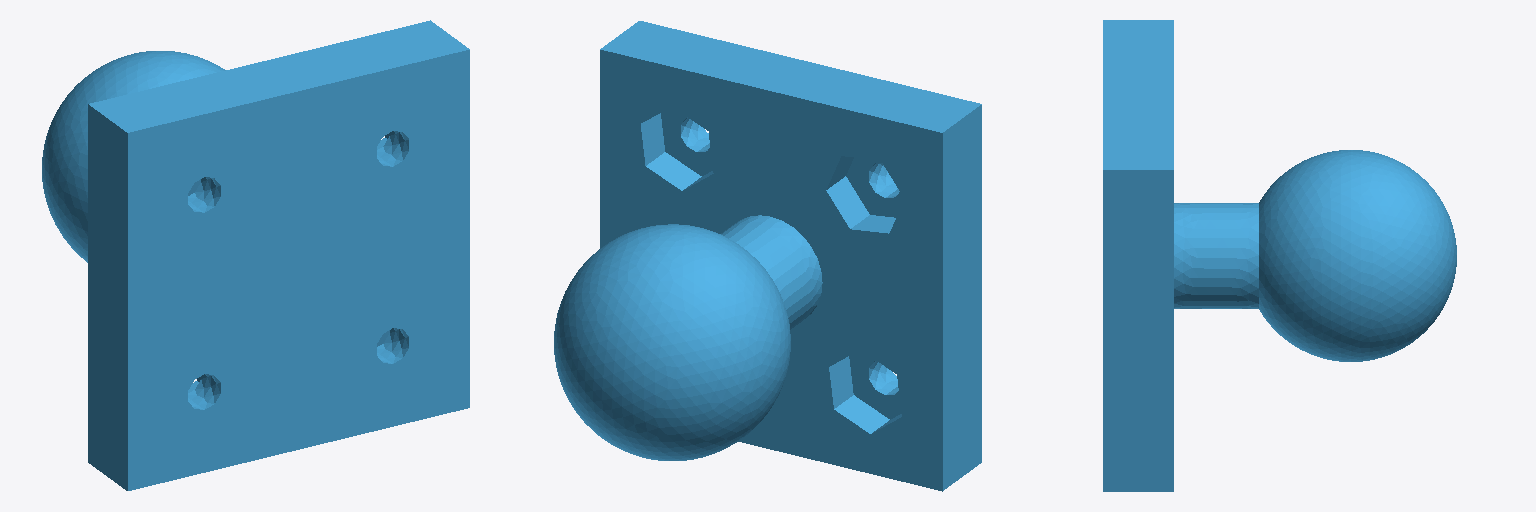
The robot description file, URDF, robot "sphere_3":
<?xml version="1.0"?>

<robot name="sphere_3">
	<link name="world">
        </link>

        <joint name="world_to_indenter" type="prismatic">
                <parent link="world"/>
                <child link="indenter"/>
                <origin rpy="0.0 0.0 0.0" xyz="0.0 -0.002 0.0"/>
                <axis xyz="0 1 0"/>
                <dynamics damping="0.0" friction="0.0"/>
                <limit lower="0.0" upper="0.1" velocity="1e9" effort="1e9"/>
        </joint>

	<link name="indenter">
		<visual>
			<origin rpy="0.0 0.0 0.0" xyz="0.0 0.0 0.0"/>
			<geometry>
				<mesh filename="../meshes/sphere_3_0.2.stl" scale="0.001 0.001 0.001"/>
			</geometry>
		</visual>
		<collision>
			<origin rpy="0.0 0.0 0.0" xyz="0.0 0.0 0.0"/>
			<geometry>
				<mesh filename="../meshes/sphere_3_0.2.stl" scale="0.001 0.001 0.001"/>
			</geometry>
		</collision>
		<!-- <inertial>
			<origin rpy="0.0 0.0 0.0" xyz="0.0 -14.0636e-3 0.0"/>
			<mass value="0.00075752"/>
			<inertia ixx="2.03201e-8" iyy="1.24370e-8" izz="1.90589e-8" ixy="0.0" ixz="-1.96737e-15" iyz="0.0"/>
		</inertial> -->
	</link>
</robot>

--- What the picture shows (computed from the rendered views, not written in the file) ---
The picture shows the robot from 3 angles, left to right: view 1: azimuth 30°, elevation 25°; view 2: azimuth 150°, elevation 25°; view 3: azimuth 270°, elevation 25°; orthographic projection.
Model sphere_3 with 2 links and 1 joints (1 prismatic), rooted at world, posed every joint at zero.
Links seen in each view (by area): view 1: indenter; view 2: indenter; view 3: indenter.
Link boxes in pixels (x1,y1,x2,y2): indenter: [42, 20, 469, 490]; indenter: [554, 21, 981, 491]; indenter: [1103, 20, 1456, 491].
Size in the robot's own frame: 0.02 by 0.02 by 0.02 metres.
1 mesh visuals loaded from 1 distinct referenced files (1 ASCII STL).
